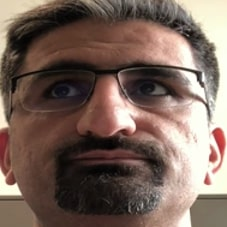awake: (32, 53, 197, 197)
